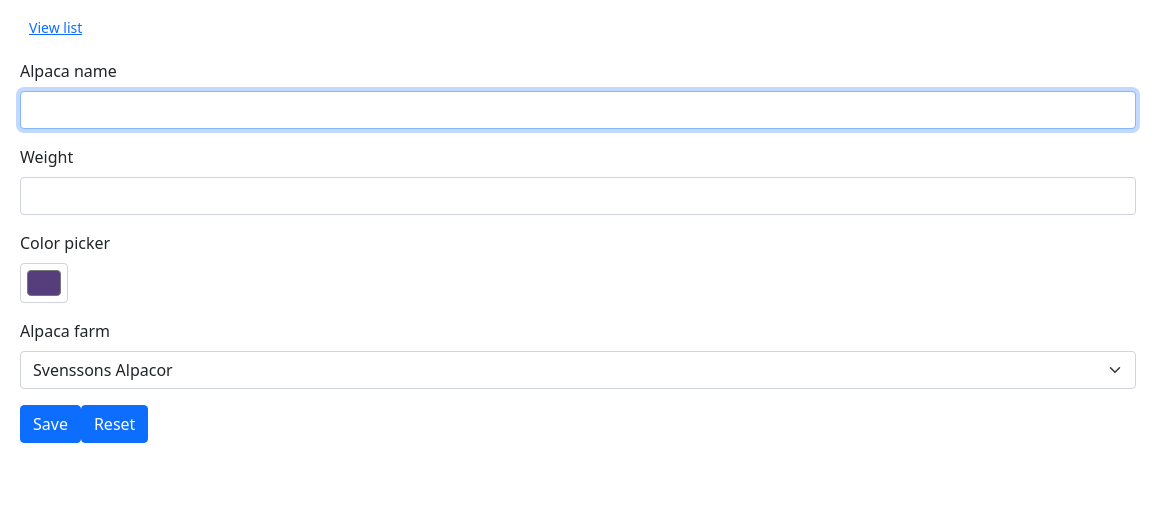
Scenario: FormView › Behaviour › should display an error message when negative value is entered in the weight input field
In the field labelled "Weight": (578, 196) x1=20 y1=177 x2=1136 y2=215, type "-1"
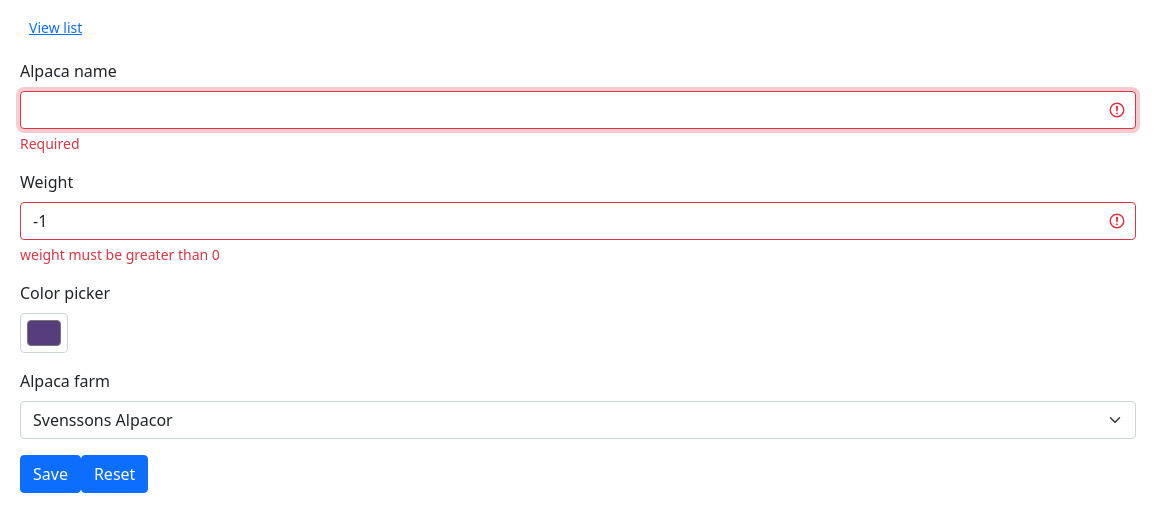
Now the text "weight must be greater than 0" is shown, box x1=20 y1=245 x2=220 y2=264
